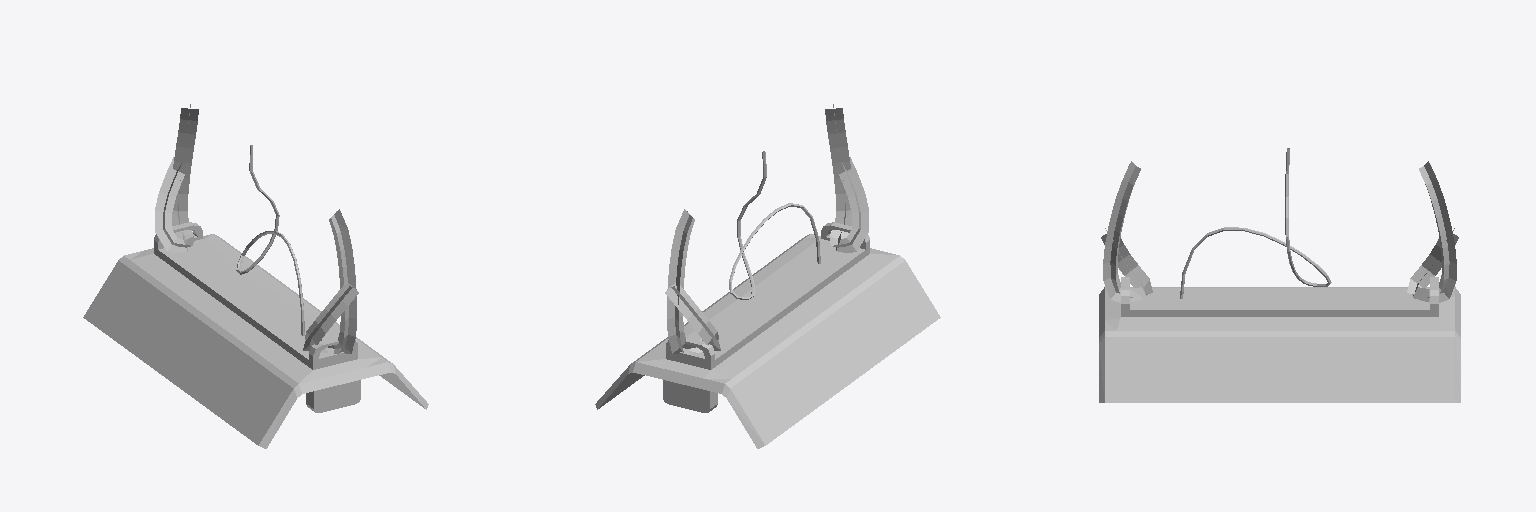
Rendered from FluorescentLight.obj.
3 renders of one model, left to right at view 1: azimuth 30°, elevation 25°; view 2: azimuth 150°, elevation 25°; view 3: azimuth 270°, elevation 25°, orthographic.
Bounding box in the file's own units: 1.09 × 1.31 × 2.